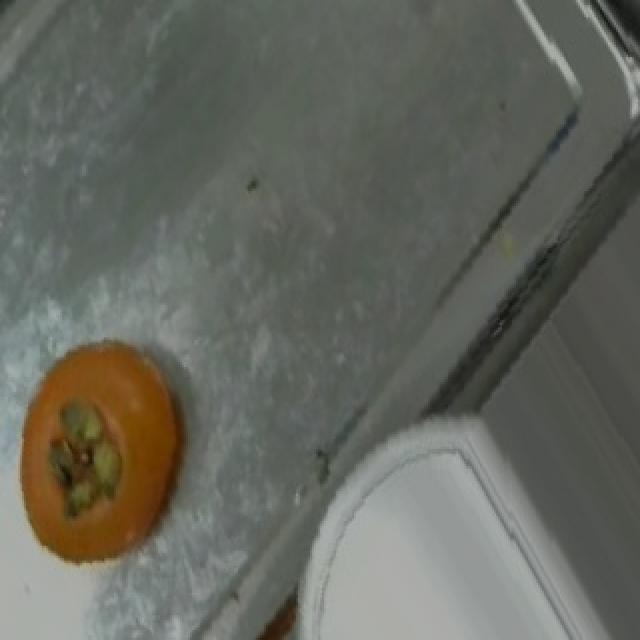Fruit: (4, 322, 206, 596)
